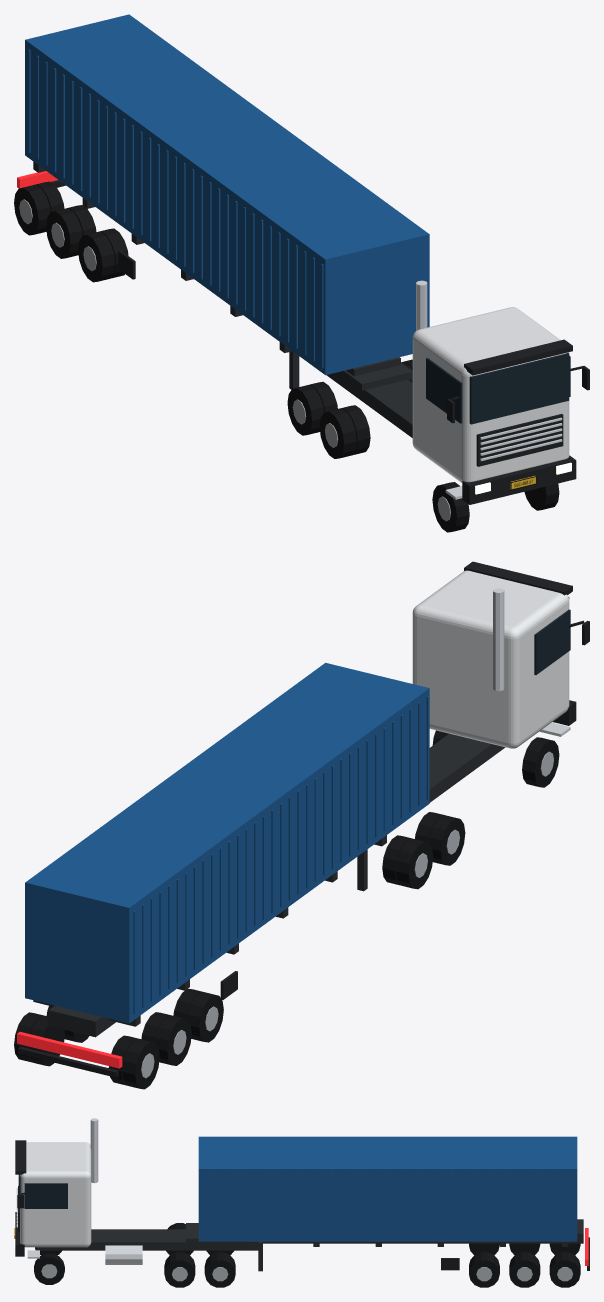
File: truck_a.glb
3 renders of one model, top to bottom at view 1: azimuth 30°, elevation 25°; view 2: azimuth 150°, elevation 25°; view 3: azimuth 270°, elevation 25°, orthographic. The views are drawn at different scales.
Parts seen in each view (by area): view 1: truck; view 2: truck; view 3: truck.
Boxes of the visible parts, x1,y1,x2,y2 form: truck: [14, 14, 589, 532]; truck: [14, 561, 589, 1089]; truck: [14, 1118, 589, 1287].
Bounding box in the file's own units: 3.22 × 4.89 × 18.54.
11 materials, 1 textured.
